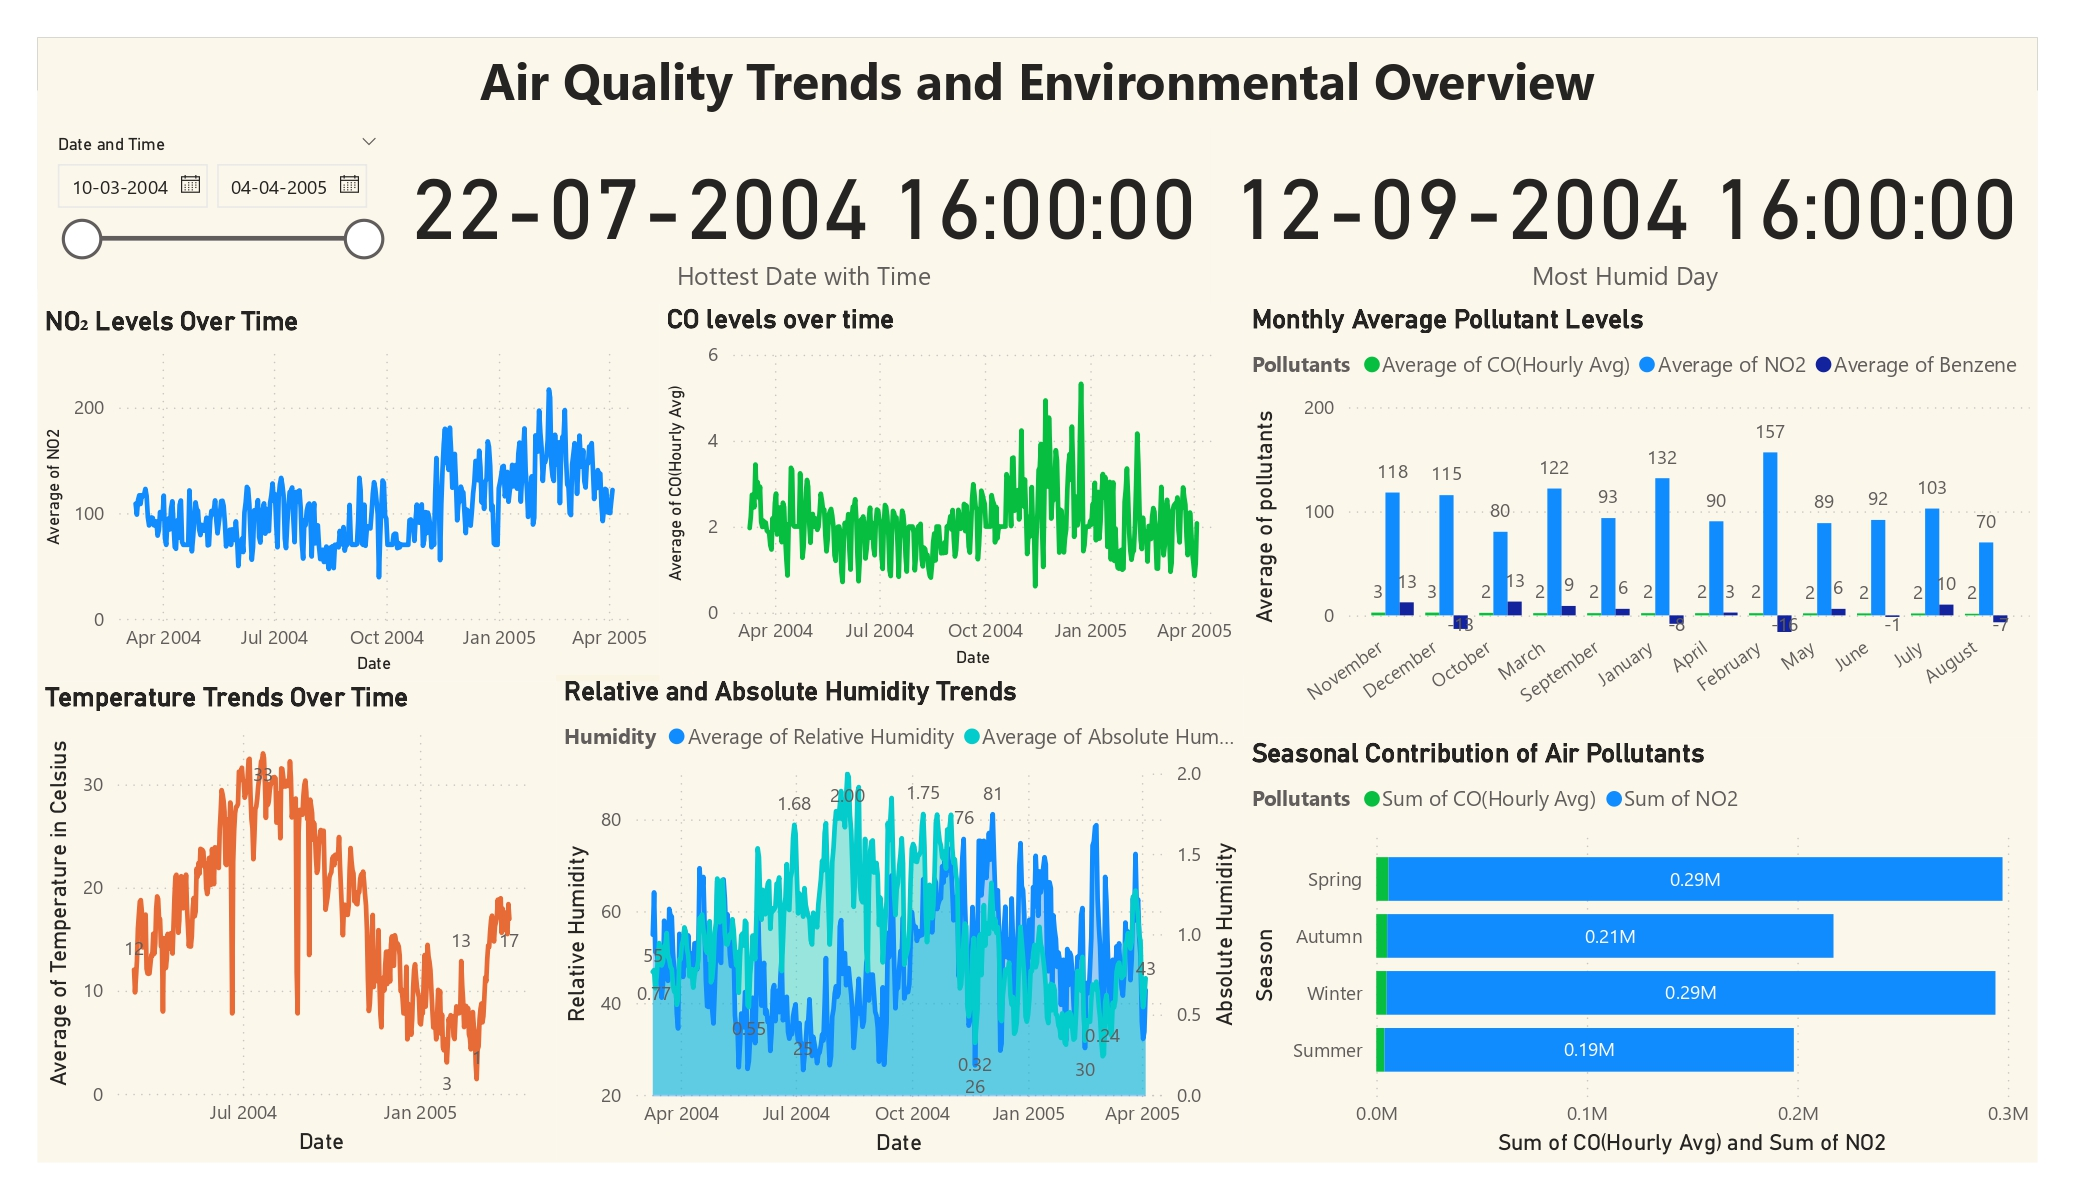

The dashboard page shown, as its layout file describes it:
{"tool":"powerbi","page":{"name":"Page Primary Environmental Metrics","canvas":[1280,720],"ordinal":0},"visuals":[{"type":"textbox","box":[0,0,1280,56.7],"z":0},{"type":"slicer","fields":{"Values":["AirQualityUCI.Date and Time"]},"box":[0,56.7,230,113.3],"z":1000},{"type":"lineChart","title":"NO₂ Levels Over Time","fields":{"Y":["Avg(AirQualityUCI.NO2)"],"Category":["AirQualityUCI.Date and Time Hierarchy.Year","AirQualityUCI.Date and Time Hierarchy.Quarter","AirQualityUCI.Date and Time Hierarchy.Month","AirQualityUCI.Date and Time Hierarchy.Day","AirQualityUCI.Date and Time Hierarchy.Date"]},"box":[0,170,398.3,241.7],"z":2000},{"type":"lineChart","title":"CO levels over time","fields":{"Category":["AirQualityUCI.Date and Time Hierarchy.Year","AirQualityUCI.Date and Time Hierarchy.Quarter","AirQualityUCI.Date and Time Hierarchy.Month","AirQualityUCI.Date and Time Hierarchy.Day","AirQualityUCI.Date and Time Hierarchy.Date"],"Y":["Avg(AirQualityUCI.CO(Hourly Avg))"]},"box":[398.3,170,373.3,238.3],"z":3000},{"type":"clusteredColumnChart","title":"Monthly Average Pollutant Levels","fields":{"Category":["AirQualityUCI.Date and Time Hierarchy.Month"],"Y":["Avg(AirQualityUCI.CO(Hourly Avg))","Avg(AirQualityUCI.NO2)","Avg(AirQualityUCI.Benzene)"]},"box":[771.7,170,508.3,278.3],"z":4000},{"type":"card","fields":{"Values":["AirQualityUCI.Hottest Date with Time"]},"box":[229.9,56.7,521.4,113.3],"z":5000},{"type":"card","fields":{"Values":["AirQualityUCI.Most Humid Day"]},"box":[751.3,56.7,529.5,113.3],"z":6000},{"type":"lineChart","title":"Temperature Trends Over Time","fields":{"Category":["AirQualityUCI.Date"],"Y":["Avg(AirQualityUCI.Temperature in Celsius)"]},"box":[0,411.7,331.7,308.3],"z":8000},{"type":"areaChart","title":"Relative and Absolute Humidity Trends","fields":{"Category":["AirQualityUCI.Date"],"Y":["Avg(AirQualityUCI.Realtive Humidity)"],"Y2":["Avg(AirQualityUCI.Absolute Humidity)"]},"box":[331.7,408.3,440,311.7],"z":9000},{"type":"barChart","title":"Seasonal Contribution of Air Pollutants","fields":{"Category":["AirQualityUCI.Season"],"Y":["Sum(AirQualityUCI.CO(Hourly Avg))","Sum(AirQualityUCI.NO2)"]},"box":[772,448,508,272],"z":10000}]}

Visuals, with their boxes on the page's 1280x720 design canvas (x1, y1, x2, y2). These are canvas units, not pixel positions in the 2075x1200 screenshot, which may show the page scaled, cropped or inside an application window:
textbox: x1=0, y1=0, x2=1280, y2=57
slicer - AirQualityUCI.Date and Time: x1=0, y1=57, x2=230, y2=170
"NO₂ Levels Over Time" lineChart: x1=0, y1=170, x2=398, y2=412
"CO levels over time" lineChart: x1=398, y1=170, x2=772, y2=408
"Monthly Average Pollutant Levels" clusteredColumnChart: x1=772, y1=170, x2=1280, y2=448
card - AirQualityUCI.Hottest Date with Time: x1=230, y1=57, x2=751, y2=170
card - AirQualityUCI.Most Humid Day: x1=751, y1=57, x2=1281, y2=170
"Temperature Trends Over Time" lineChart: x1=0, y1=412, x2=332, y2=720
"Relative and Absolute Humidity Trends" areaChart: x1=332, y1=408, x2=772, y2=720
"Seasonal Contribution of Air Pollutants" barChart: x1=772, y1=448, x2=1280, y2=720
